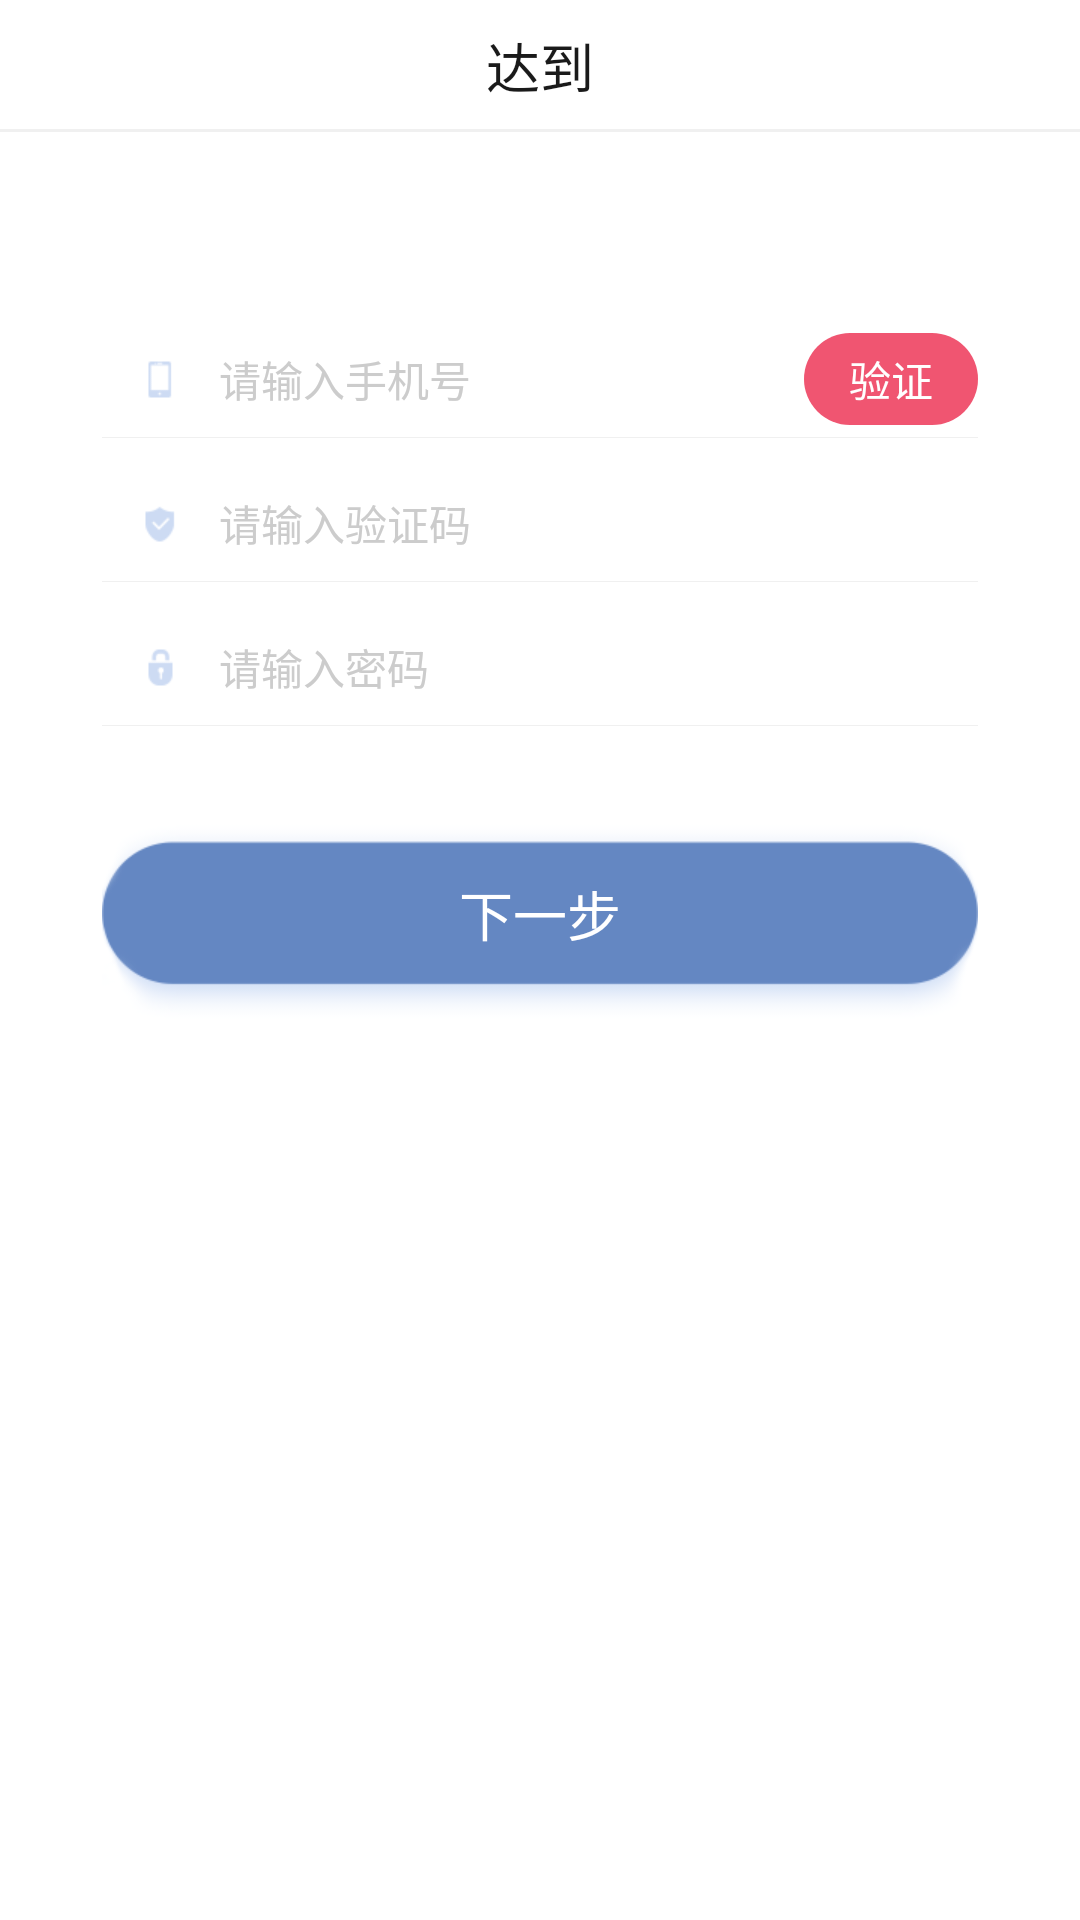

Where icons sit on this 1080x1920 app screen, as (x1, y1, x2, y2):
mima: (148, 649, 173, 686)
shouji: (148, 361, 171, 398)
yanzheng: (145, 507, 174, 541)
